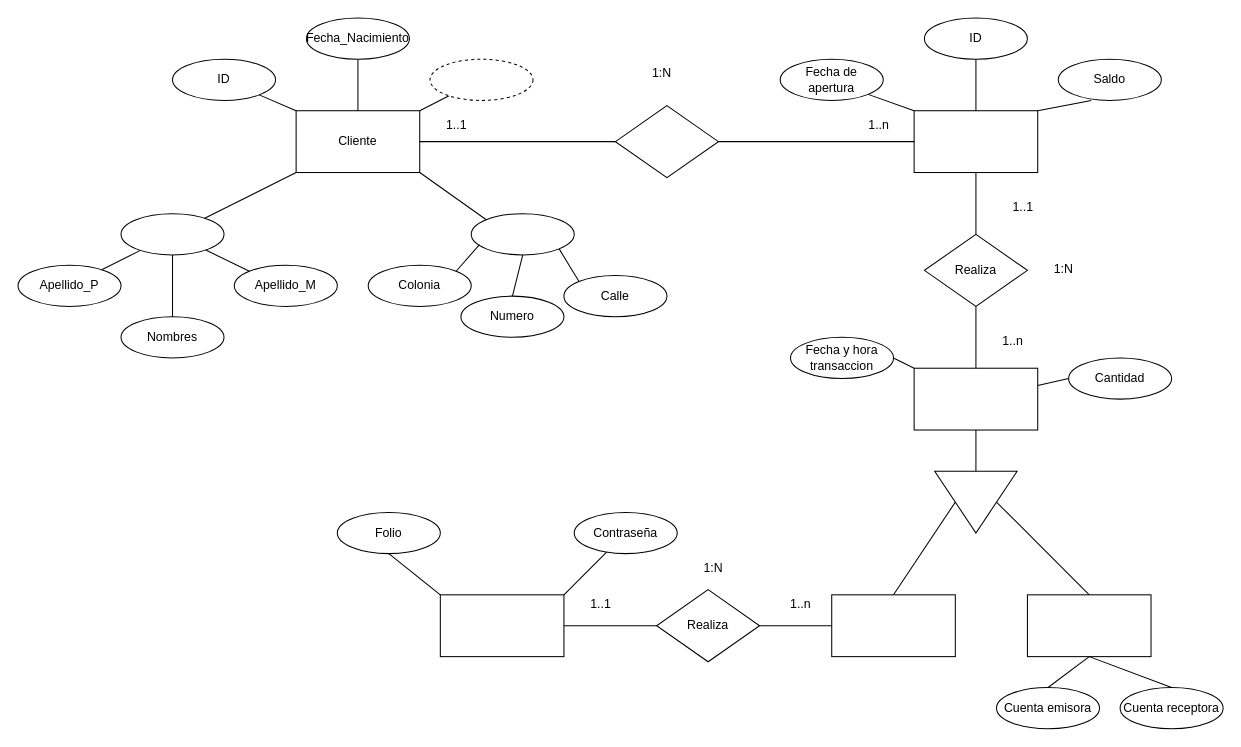
The diagram is 1241 pixels wide and 747 high, and some of its shapes have lost their labels. Each missing label, with the centre of its shape:
"Cuenta" belongs at point (975, 141).
"Domicilio" belongs at point (522, 234).
"Edad" belongs at point (481, 79).
"Nombre" belongs at point (172, 234).
"Persona" belongs at point (501, 625).
"Retiro S/C" belongs at point (893, 625).
"Tiene" belongs at point (666, 141).
"Transaccion" belongs at point (975, 398).
"Transferencia" belongs at point (1088, 625).
